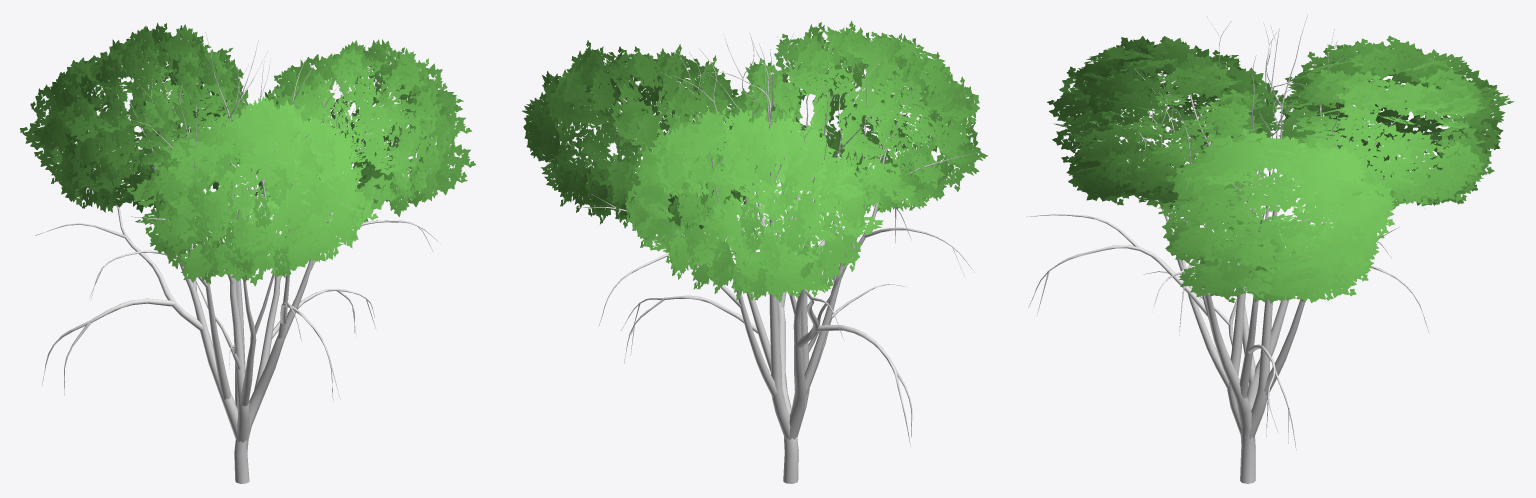
The model's file is Tree_A.fbx.
3 views of the same model, side by side, from view 1: azimuth 30°, elevation 25°; view 2: azimuth 150°, elevation 25°; view 3: azimuth 270°, elevation 25° (orthographic). The views are drawn at different scales.
Parts seen in each view (by area): view 1: Canopy_A_LOD0, Trunk_A_LOD0; view 2: Canopy_A_LOD0, Trunk_A_LOD0; view 3: Canopy_A_LOD0, Trunk_A_LOD0.
Part boxes in pixels (x1,y1,x2,y2): Canopy_A_LOD0: (20, 22, 475, 286); Trunk_A_LOD0: (35, 32, 440, 483); Canopy_A_LOD0: (522, 21, 987, 302); Trunk_A_LOD0: (576, 33, 977, 483); Canopy_A_LOD0: (1047, 35, 1514, 303); Trunk_A_LOD0: (1026, 14, 1429, 483).
Size of what is drawn, in the model's own units: 6.27 by 6.29 by 6.47.
